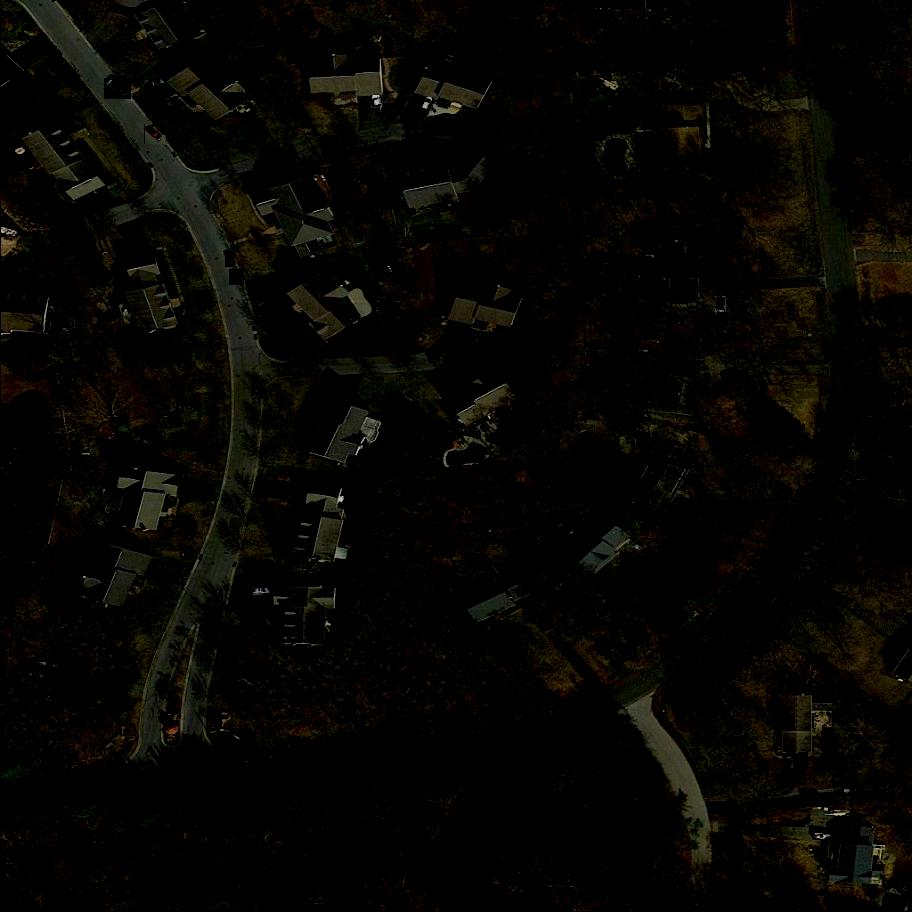small-vehicle: (105, 77, 132, 101), (145, 125, 166, 145), (722, 369, 743, 386), (523, 600, 536, 623), (702, 276, 723, 289), (161, 91, 181, 104), (230, 268, 245, 285), (530, 592, 542, 611), (701, 67, 715, 83), (149, 78, 168, 89), (422, 98, 434, 114), (715, 296, 727, 312), (372, 95, 384, 110), (263, 173, 274, 188), (783, 754, 794, 769), (801, 792, 818, 801), (290, 492, 307, 501), (290, 485, 308, 493), (253, 587, 271, 595), (225, 252, 234, 267), (661, 85, 677, 92)
